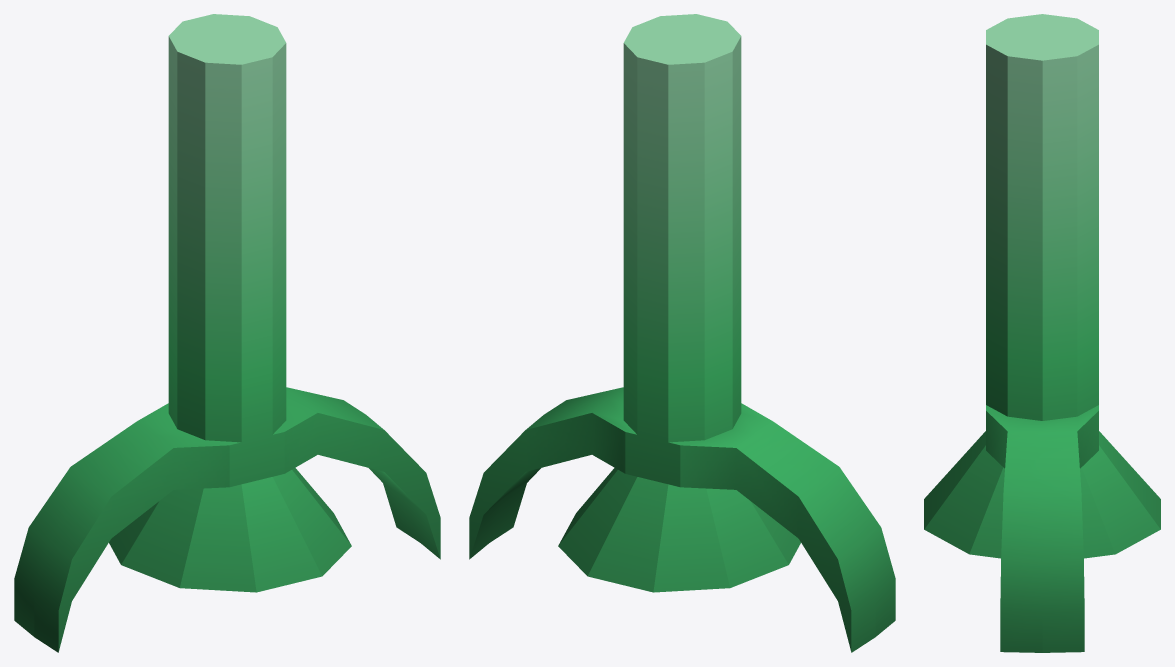
The model's file is Grip_Three.fbx.
3 renders of one model, left to right at view 1: azimuth 30°, elevation 25°; view 2: azimuth 150°, elevation 25°; view 3: azimuth 270°, elevation 25°, orthographic. The views are drawn at different scales.
Visible parts, largest first — view 1: Grip_Three; view 2: Grip_Three; view 3: Grip_Three.
Part boxes in pixels (box(x1,y1,x2,y2)): Grip_Three: box(14, 14, 440, 652); Grip_Three: box(469, 14, 895, 652); Grip_Three: box(924, 14, 1160, 652).
Size of the model in its own units: 2.89 by 3.94 by 1.61.
